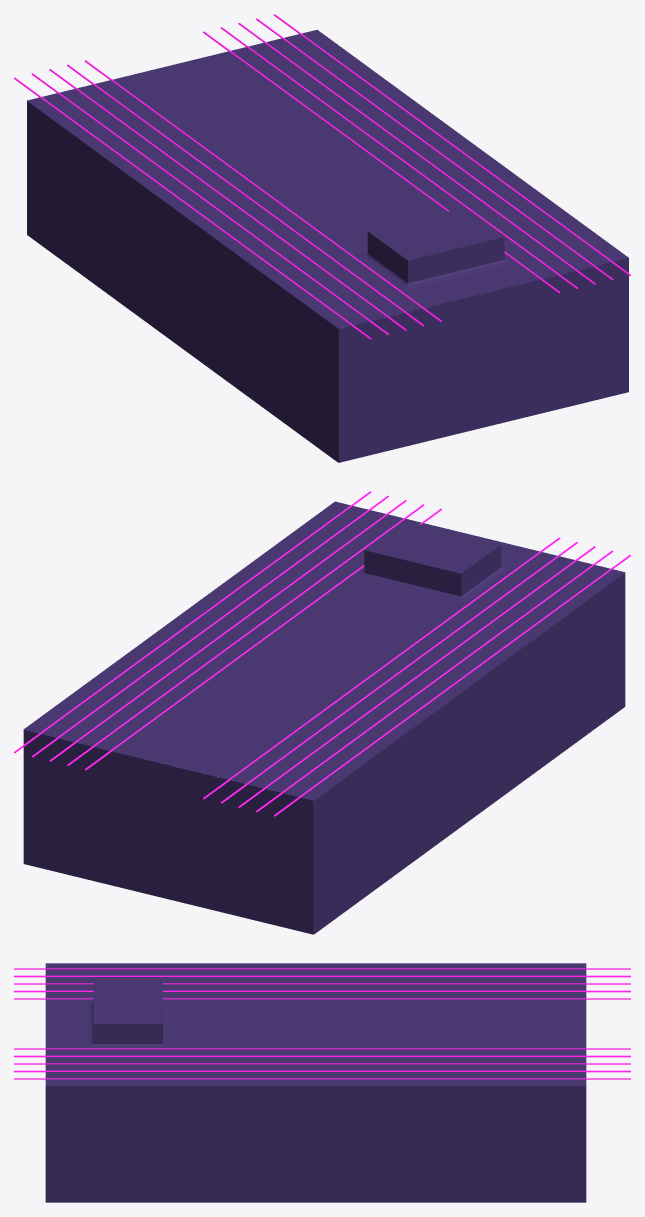
Rendered from roof_walls.fbx.
3 renders of one model, top to bottom at view 1: azimuth 30°, elevation 25°; view 2: azimuth 150°, elevation 25°; view 3: azimuth 270°, elevation 25°, orthographic. The views are drawn at different scales.
Parts seen in each view (by area): view 1: roof_Baked, walls_Baked, led_Baked, led_Baked.001; view 2: roof_Baked, walls_Baked, led_Baked, led_Baked.001; view 3: roof_Baked, walls_Baked, led_Baked.001, led_Baked.
Part boxes in pixels (x1,y1,x2,y2): roof_Baked: (27,30,628,328); walls_Baked: (27,101,628,462); led_Baked: (14,60,441,339); led_Baked.001: (203,14,630,293); roof_Baked: (23,501,625,800); walls_Baked: (23,573,625,934); led_Baked: (203,537,630,816); led_Baked.001: (14,491,441,770); roof_Baked: (45,963,586,1086); walls_Baked: (45,1086,586,1202); led_Baked.001: (14,1048,630,1079); led_Baked: (14,968,630,999).
Bounding box in the file's own units: 8319 × 4337 × 17645.
Materials: 3 (3 with a texture image).
